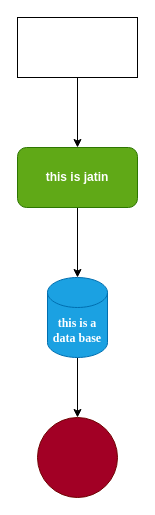
The diagram is 155 pixels wide and 515 high, and some of its shapes have lost their labels. The centre of each missing label's shape, as x and y in pixels:
"hi" goes at point (77, 47).
"It you want this do like" goes at point (77, 457).
